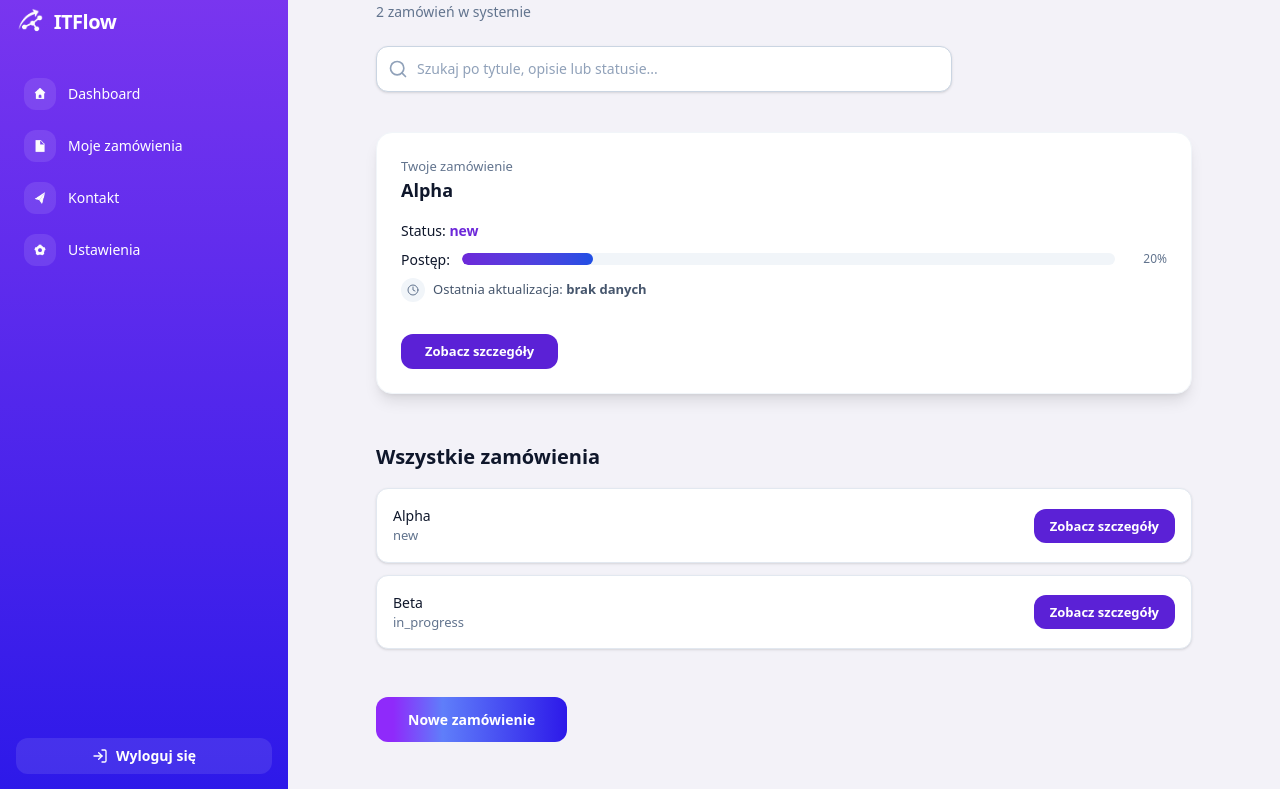
Test: OrdersPage › opens create form for client and submits new order
(page scrolled)
Click the button "Nowe zamówienie": [472, 720] box [376, 697, 567, 742]
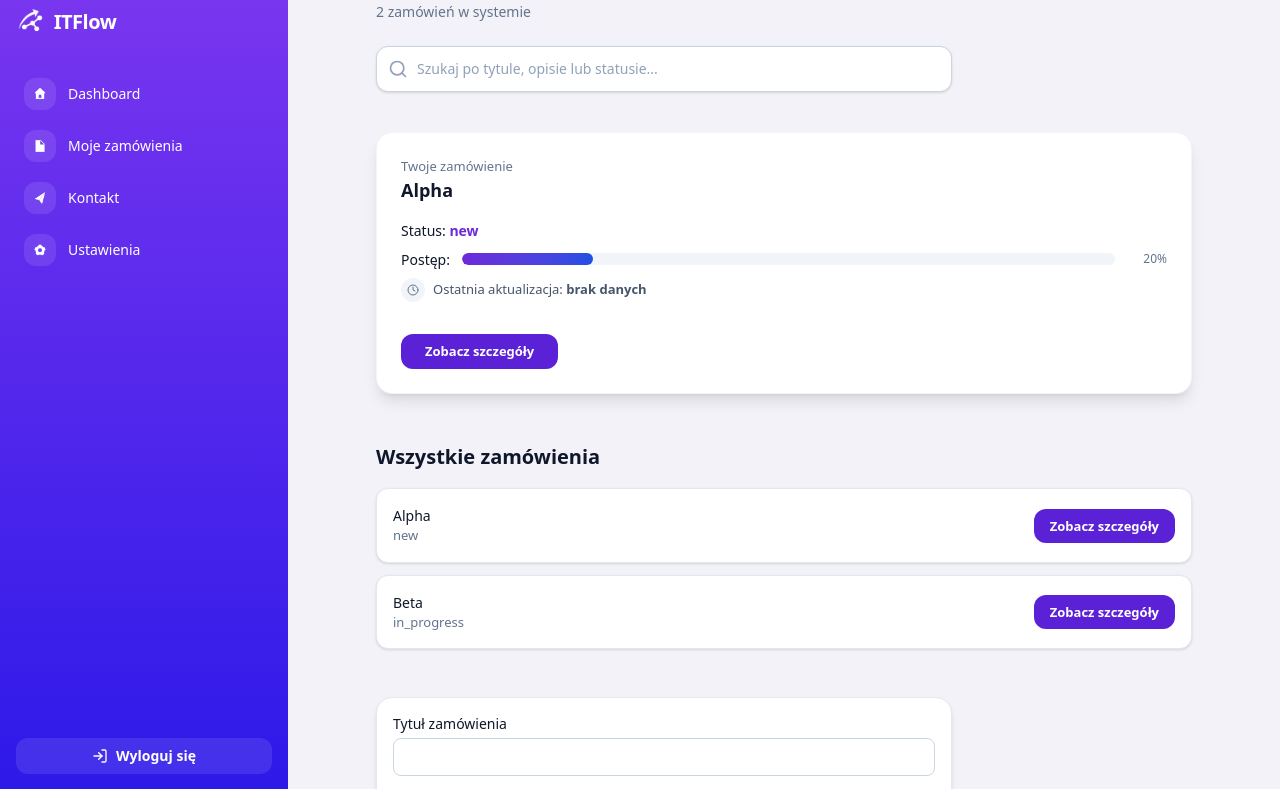
In the 2nd field: [664, 757] box [393, 738, 935, 776], type "Gamma"
(page scrolled)
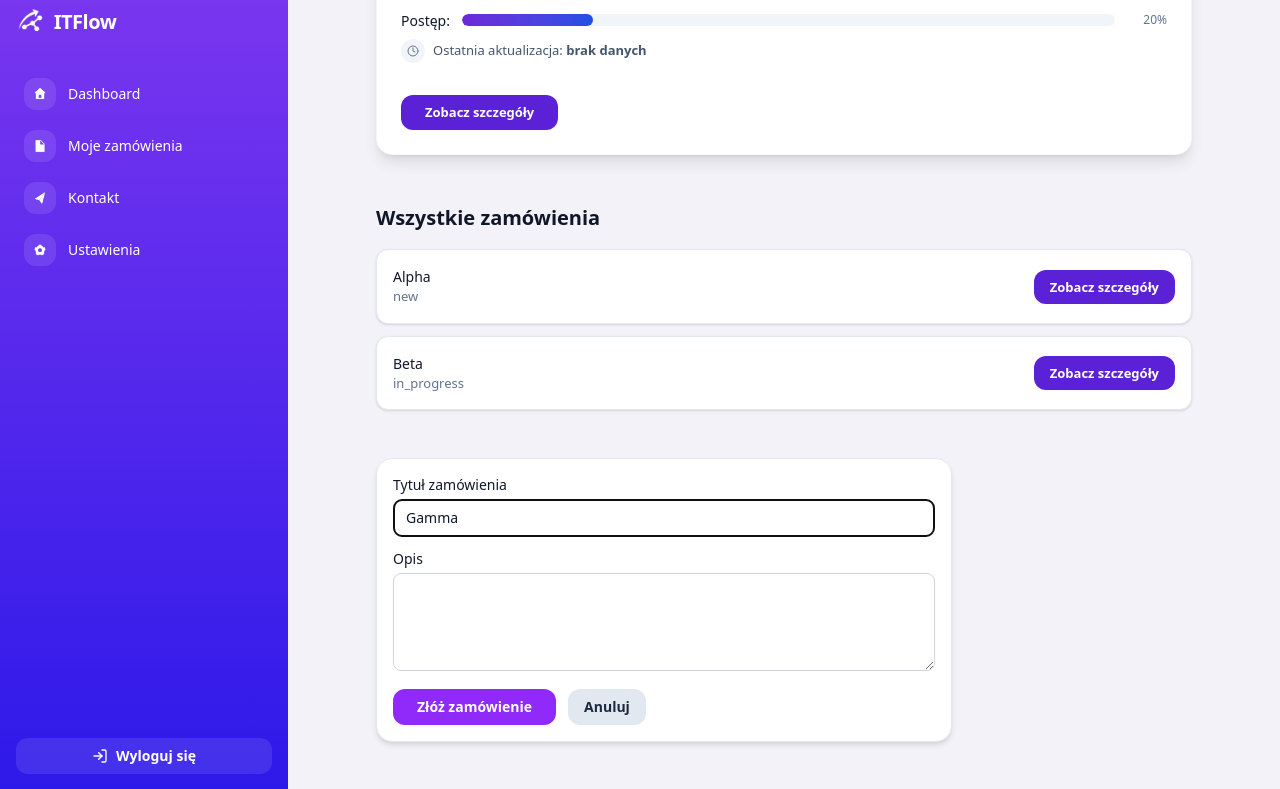
In the text box: [664, 622] box [393, 573, 935, 671], type "New order"
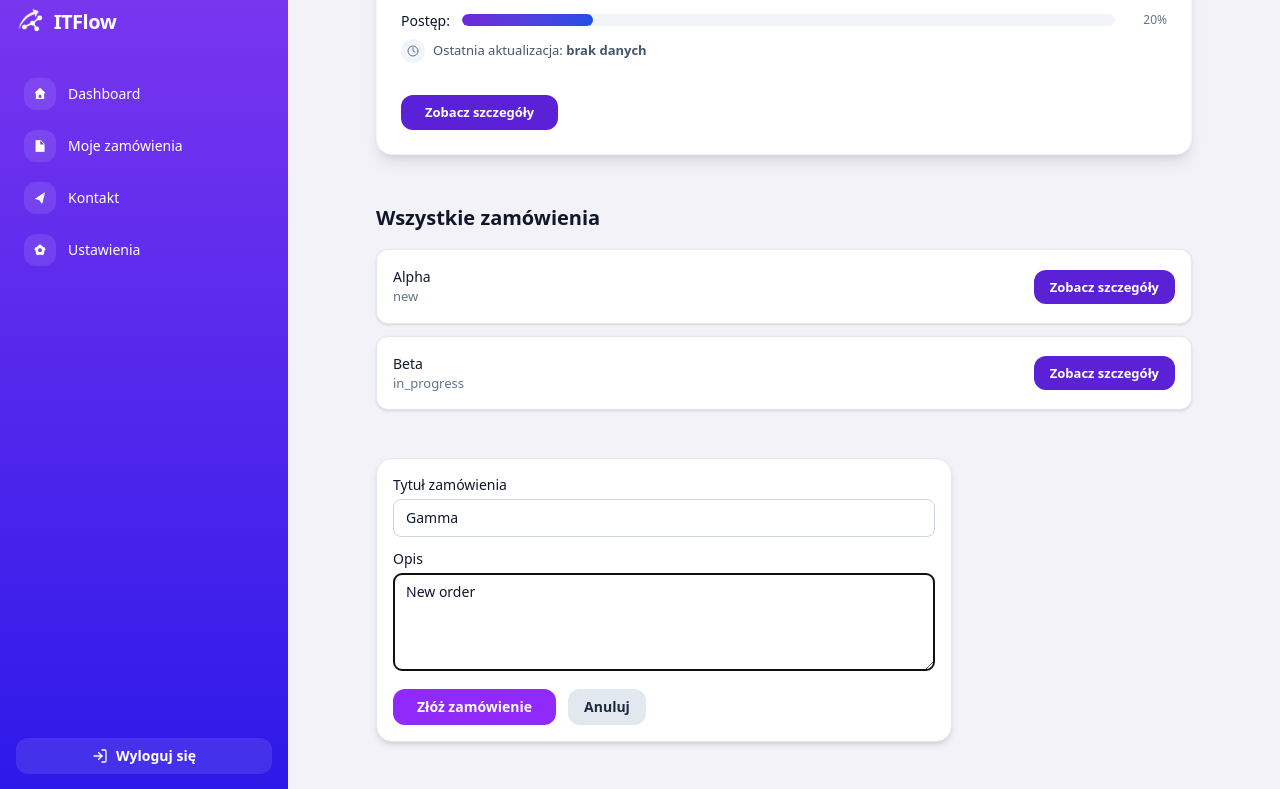
Click the button "Złóż zamówienie": [475, 707] box [393, 689, 556, 725]
(page scrolled)
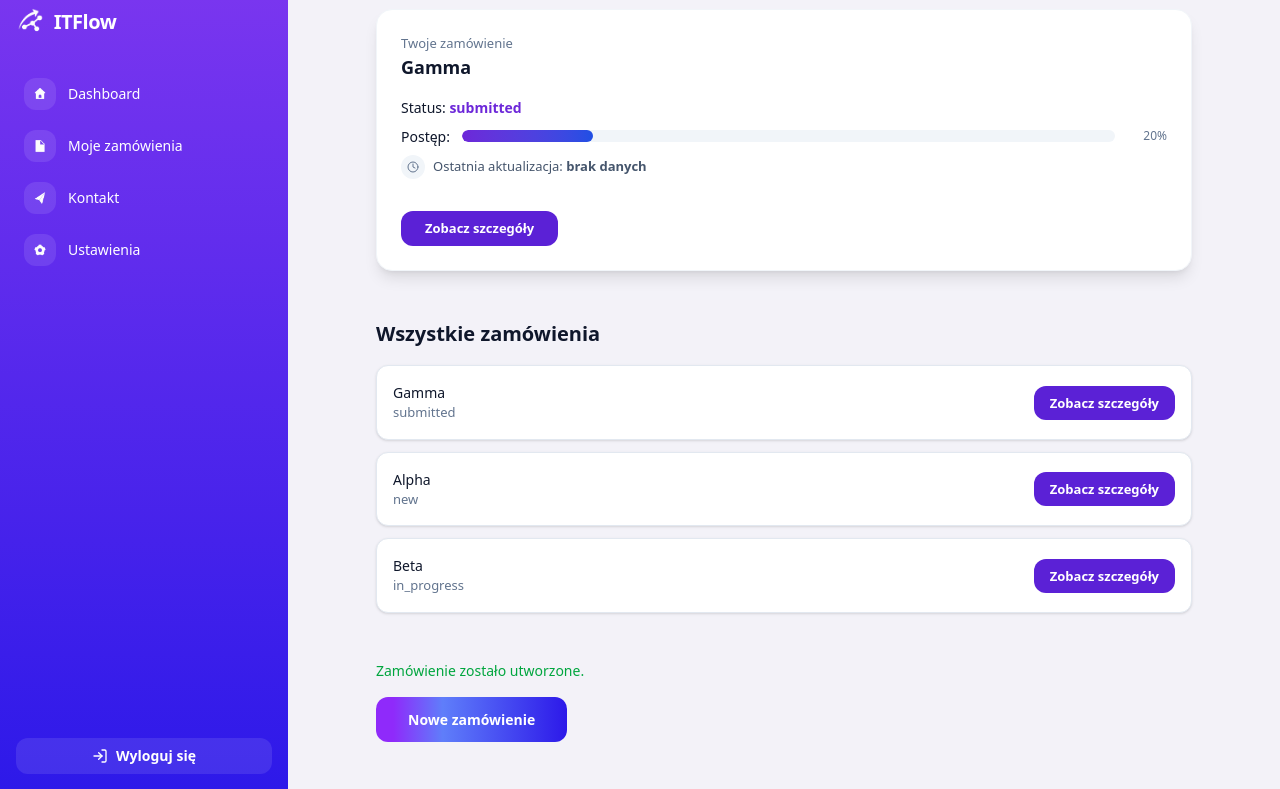
Expected: the text "Zamówienie zostało utworzone." is shown, [376, 660, 584, 680]
Expected: the text "Gamma" below "Twoje zamówienie" is shown, [401, 54, 471, 78]
